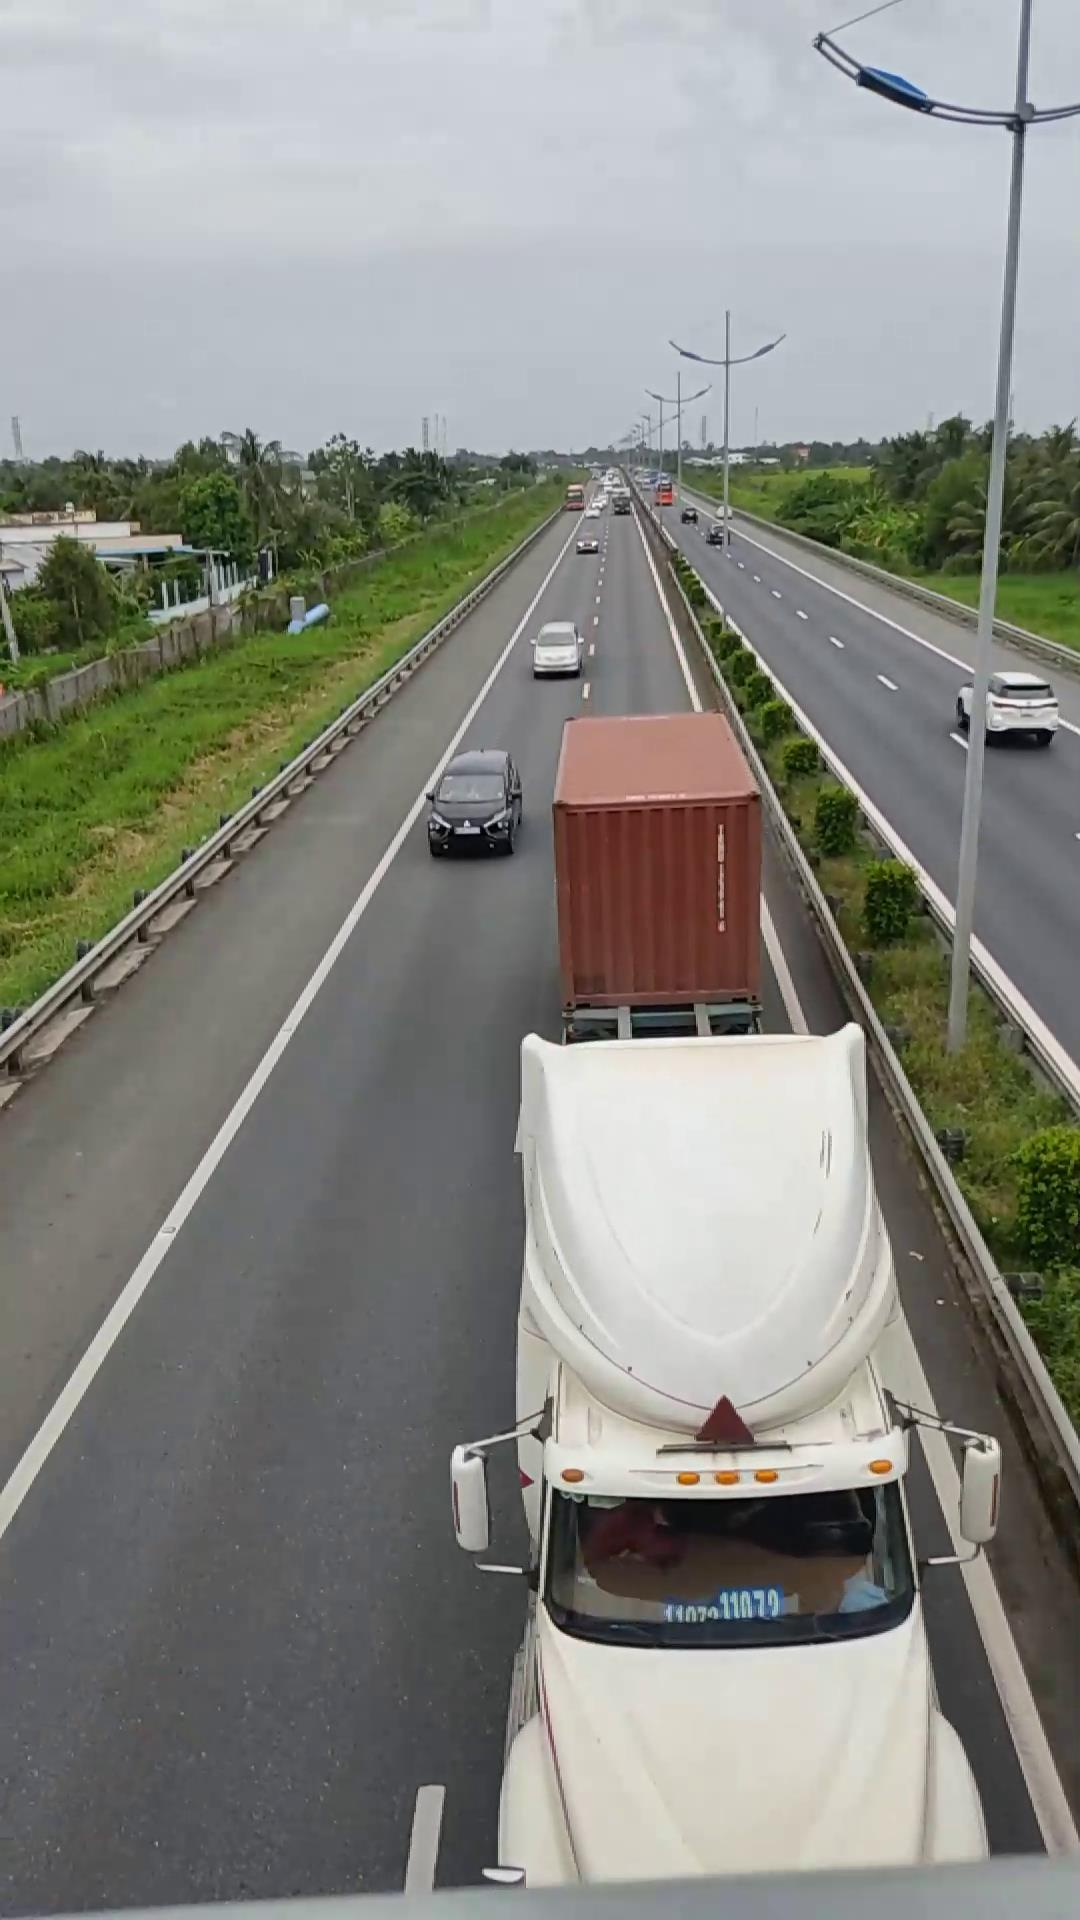car: (425, 747, 525, 856), (958, 667, 1058, 746)
container: (463, 706, 974, 1896)
